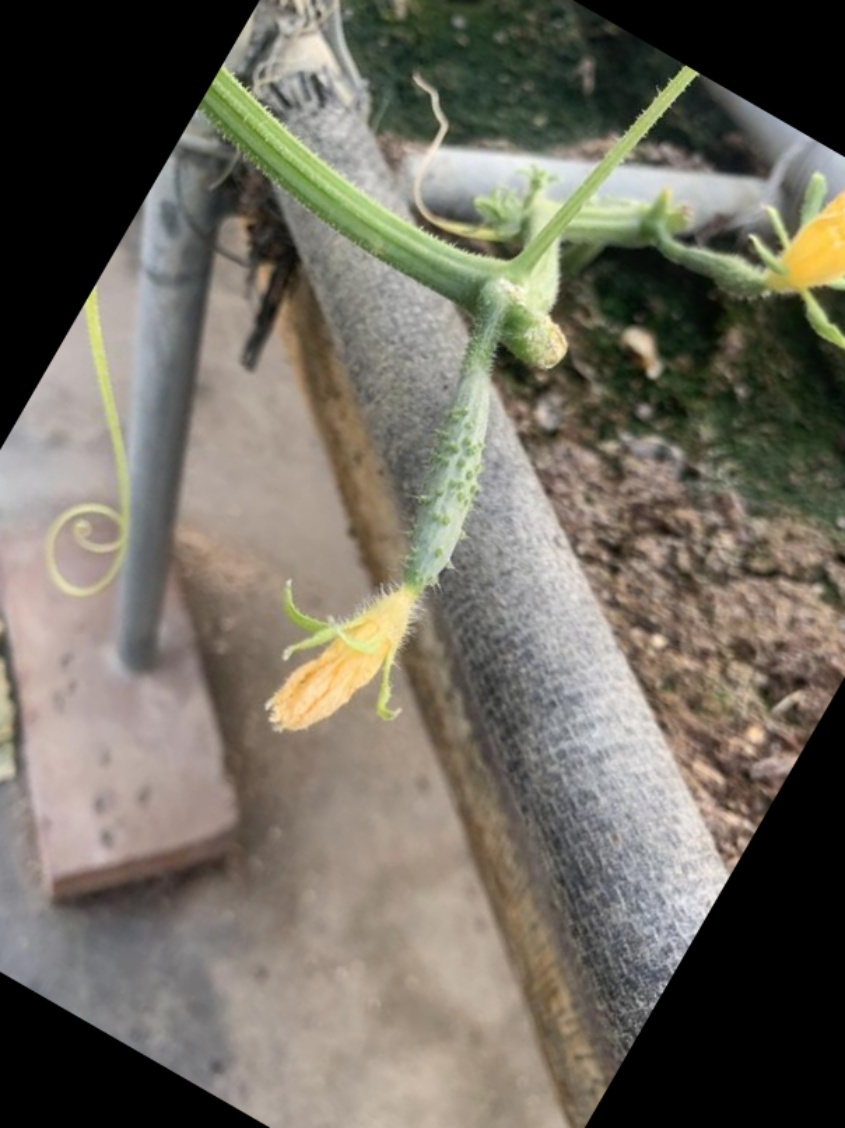bear: (263, 340, 530, 741)
